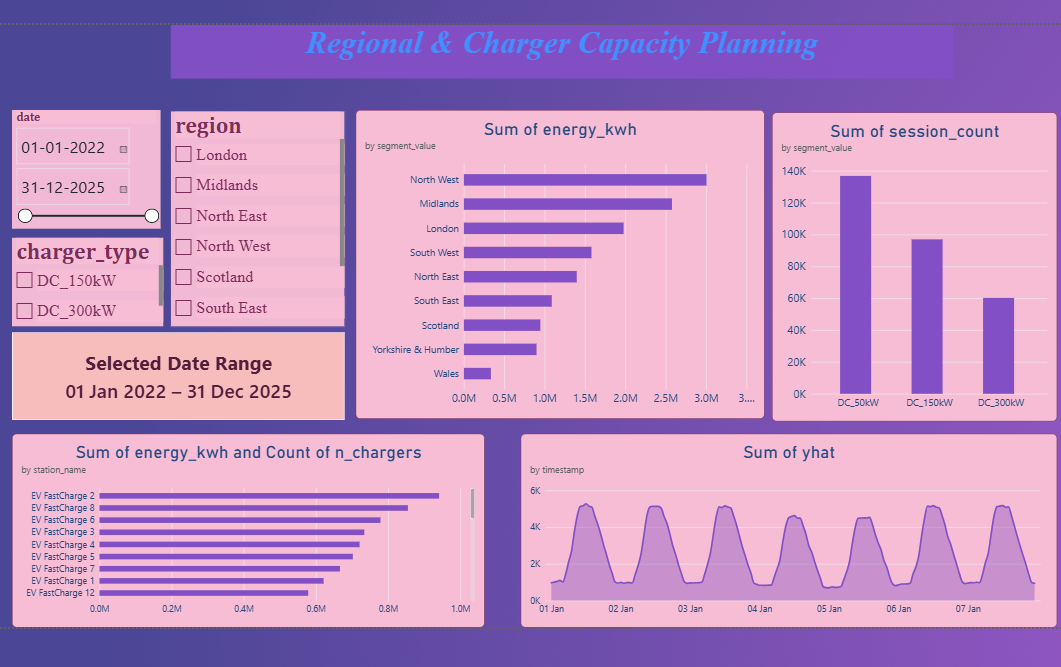

The page's visual inventory and layout, read from the dashboard file:
{"tool":"powerbi","page":{"name":"Page 3","canvas":[1920,1080],"ordinal":2},"visuals":[{"type":"textbox","box":[311.5,0,1402.8,96.4],"z":0},{"type":"slicer","fields":{"Values":["dim_date.date"]},"box":[26.9,152.4,266.7,212.9],"z":1000},{"type":"slicer","fields":{"Values":["dim_charger_types.charger_type"]},"box":[26.9,381,271.1,159.1],"z":2000},{"type":"slicer","fields":{"Values":["dim_stations.region"]},"box":[311.5,154.6,311.5,385.4],"z":3000},{"type":"cardVisual","fields":{"Data":["daily_forecast_best_model_365d.Selected Date Range"]},"box":[26.9,551.3,596.1,156.9],"z":4000},{"type":"clusteredBarChart","fields":{"Category":["fact_historical_segmented.segment_value"],"Y":["Sum(fact_historical_segmented.energy_kwh)"]},"box":[643.1,152.4,732.8,553.5],"z":5000},{"type":"lineClusteredColumnComboChart","fields":{"Category":["fact_historical_segmented.segment_value"],"Y":["Sum(fact_historical_segmented.session_count)"]},"box":[1389.4,156.9,510.9,553.5],"z":6000},{"type":"clusteredBarChart","fields":{"Category":["dim_stations.station_name"],"Y":["Sum(fact_station_daily.energy_kwh)"]},"box":[26.9,732.8,847.1,347.3],"z":7000},{"type":"lineChart","fields":{"Category":["fact_hourly_forecast.timestamp"],"Y":["Sum(fact_hourly_forecast.yhat)"]},"box":[938.9,732.8,961.3,347.3],"z":8000}]}

Visuals, with their boxes in screenshot pixels (x1, y1, x2, y2):
textbox: crop(168, 17, 960, 71)
slicer - dim_date.date: crop(7, 103, 158, 223)
slicer - dim_charger_types.charger_type: crop(7, 232, 160, 322)
slicer - dim_stations.region: crop(168, 104, 344, 322)
cardVisual - daily_forecast_best_model_365d.Selected Date Range: crop(7, 328, 344, 417)
clusteredBarChart - fact_historical_segmented.segment_value x Sum(fact_historical_segmented.energy_kwh): crop(355, 103, 769, 415)
lineClusteredColumnComboChart - fact_historical_segmented.segment_value x Sum(fact_historical_segmented.session_count): crop(777, 105, 1060, 418)
clusteredBarChart - dim_stations.station_name x Sum(fact_station_daily.energy_kwh): crop(7, 431, 486, 627)
lineChart - fact_hourly_forecast.timestamp x Sum(fact_hourly_forecast.yhat): crop(522, 431, 1060, 627)
